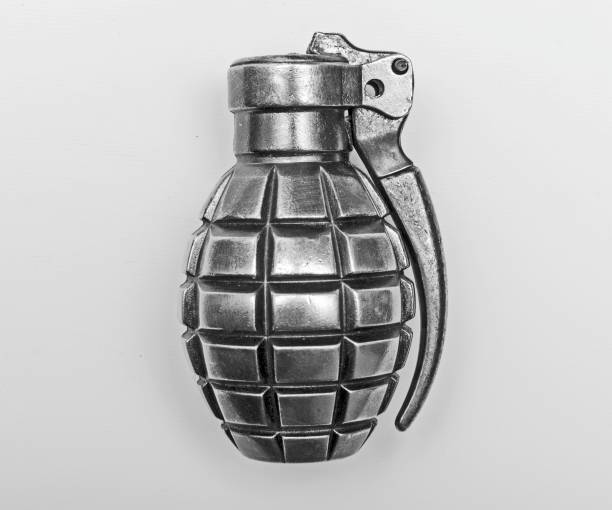e1: (185, 30, 449, 459)
